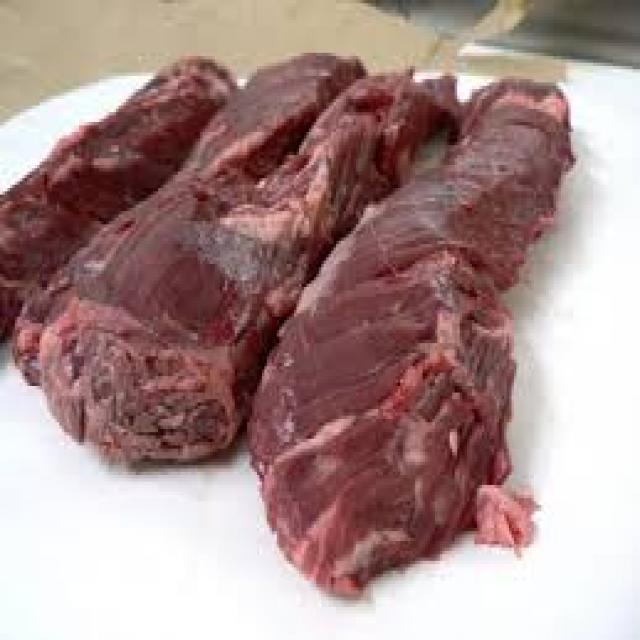organic waste: (7, 49, 455, 458), (244, 72, 570, 590), (0, 53, 230, 340)
